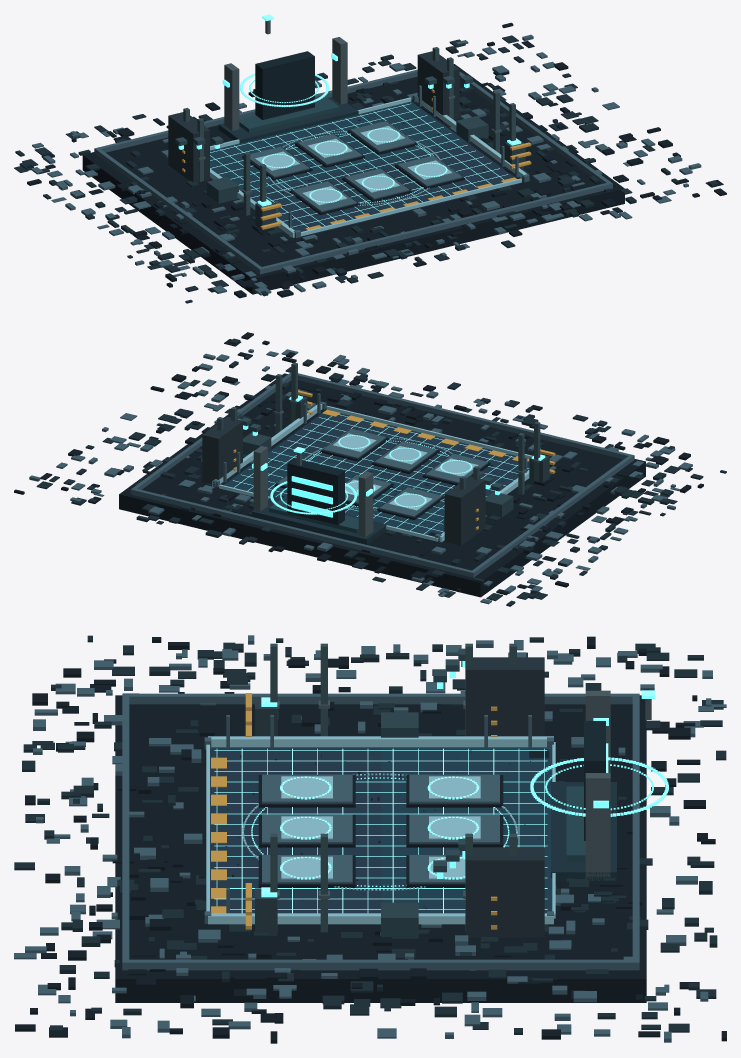
File: preview-nexus.glb
3 renders of one model, top to bottom at view 1: azimuth 30°, elevation 25°; view 2: azimuth 150°, elevation 25°; view 3: azimuth 270°, elevation 25°, orthographic. The views are drawn at different scales.
Parts seen in each view (by area): view 1: Miniature_Outer_Rubble, Miniature_Plinth, Miniature_Six_Grounded_Foundations (×2), Miniature_Enemy_Floor, Miniature_Friendly_Floor, Miniature_Frame, Miniature_Server_Racks, Miniature_Reactor_Core, Miniature_Tech_Grid, Miniature_Reactor_Dais, Miniature_Arena_Curb, Miniature_Conduit_Pipes (+5 smaller); view 2: Miniature_Plinth, Miniature_Outer_Rubble, Miniature_Frame, Miniature_Six_Grounded_Foundations (×2), Miniature_Friendly_Floor, Miniature_Server_Racks, Miniature_Enemy_Floor, Miniature_Reactor_Core (×2), Miniature_Arena_Curb, Miniature_Tech_Grid, Miniature_Reactor_Dais, Miniature_Conduit_Pipes (+5 smaller); view 3: Miniature_Plinth, Miniature_Outer_Rubble, Miniature_Six_Grounded_Foundations (×2), Miniature_Friendly_Floor, Miniature_Frame, Miniature_Enemy_Floor, Miniature_Server_Racks, Miniature_Arena_Curb, Miniature_Tech_Grid, Miniature_Reactor_Dais, Miniature_Conduit_Pipes, Miniature_Reactor_Pylons (+6 smaller).
Part boxes in pixels (bbox=[...]): Miniature_Outer_Rubble: bbox=[14, 22, 726, 303]; Miniature_Plinth: bbox=[82, 64, 624, 294]; Miniature_Six_Grounded_Foundations (×2): bbox=[242, 121, 464, 214]; Miniature_Enemy_Floor: bbox=[210, 101, 465, 193]; Miniature_Friendly_Floor: bbox=[250, 141, 520, 238]; Miniature_Frame: bbox=[94, 69, 612, 274]; Miniature_Server_Racks: bbox=[168, 51, 459, 182]; Miniature_Reactor_Core: bbox=[255, 51, 314, 119]; Miniature_Tech_Grid: bbox=[210, 103, 507, 227]; Miniature_Reactor_Dais: bbox=[218, 97, 358, 143]; Miniature_Arena_Curb: bbox=[210, 96, 528, 237]; Miniature_Conduit_Pipes: bbox=[183, 47, 515, 215]; Miniature_Plinth: bbox=[119, 373, 645, 597]; Miniature_Outer_Rubble: bbox=[14, 332, 726, 606]; Miniature_Frame: bbox=[130, 372, 634, 577]; Miniature_Six_Grounded_Foundations (×2): bbox=[274, 428, 490, 520]; Miniature_Friendly_Floor: bbox=[274, 410, 529, 497]; Miniature_Server_Racks: bbox=[202, 417, 485, 545]; Miniature_Enemy_Floor: bbox=[220, 448, 447, 542]; Miniature_Reactor_Core (×2): bbox=[287, 458, 344, 525]; Miniature_Arena_Curb: bbox=[212, 404, 532, 542]; Miniature_Tech_Grid: bbox=[233, 414, 529, 533]; Miniature_Reactor_Dais: bbox=[251, 496, 387, 544]; Miniature_Conduit_Pipes: bbox=[217, 362, 540, 494]; Miniature_Plinth: bbox=[115, 695, 646, 1002]; Miniature_Outer_Rubble: bbox=[14, 635, 726, 1043]; Miniature_Six_Grounded_Foundations (×2): bbox=[258, 774, 503, 887]; Miniature_Friendly_Floor: bbox=[210, 747, 380, 913]; Miniature_Frame: bbox=[122, 693, 639, 970]; Miniature_Enemy_Floor: bbox=[381, 747, 552, 913]; Miniature_Server_Racks: bbox=[466, 657, 544, 937]; Miniature_Arena_Curb: bbox=[206, 736, 555, 924]; Miniature_Tech_Grid: bbox=[214, 748, 547, 913]; Miniature_Reactor_Dais: bbox=[551, 782, 616, 880]; Miniature_Conduit_Pipes: bbox=[270, 643, 516, 932]; Miniature_Reactor_Pylons: bbox=[585, 690, 610, 880].
Bounding box in the file's own units: 13.73 × 2.65 × 10.2.
